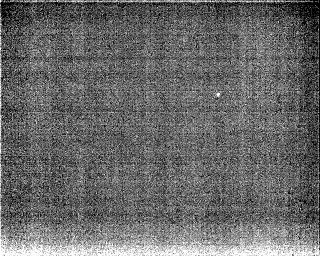BIRD: (214, 90, 223, 100)
